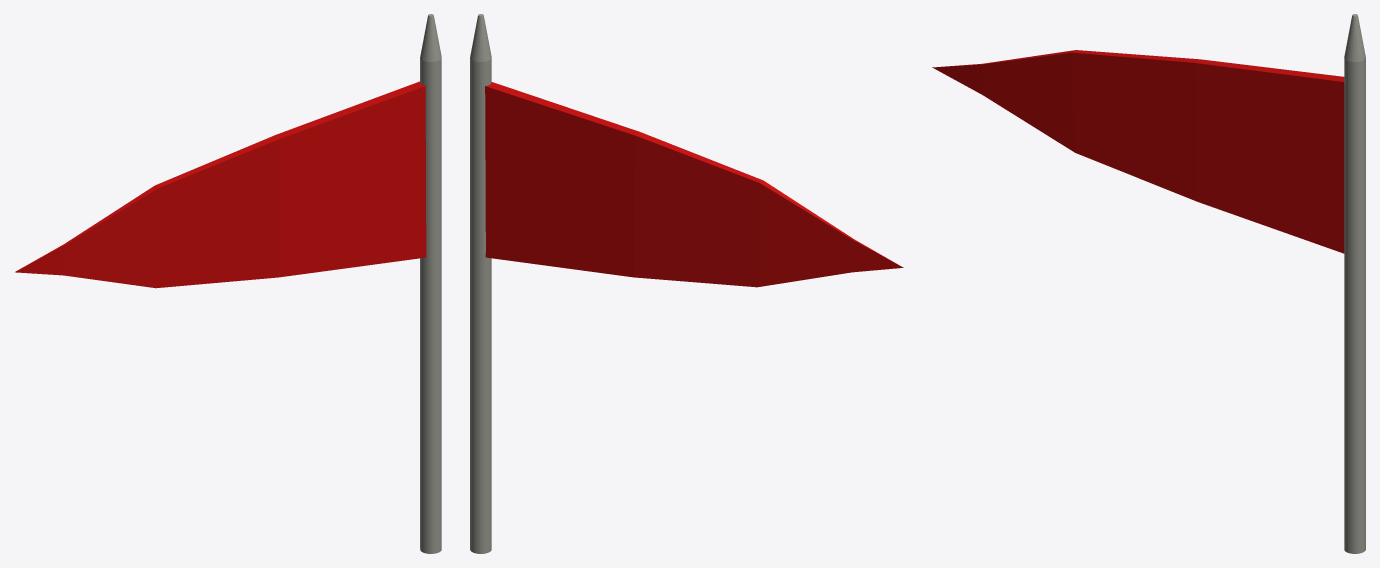
The model's file is flag_01.fbx.
3 renders of one model, left to right at view 1: azimuth 30°, elevation 25°; view 2: azimuth 150°, elevation 25°; view 3: azimuth 330°, elevation 25°, orthographic.
Visible parts, largest first — view 1: Cylinder; view 2: Cylinder; view 3: Cylinder.
Boxes of the visible parts, x1=… form: Cylinder: x1=15, y1=14, x2=441, y2=553; Cylinder: x1=470, y1=14, x2=903, y2=553; Cylinder: x1=932, y1=14, x2=1365, y2=553.
Bounding box in the file's own units: 457 × 543 × 20.
